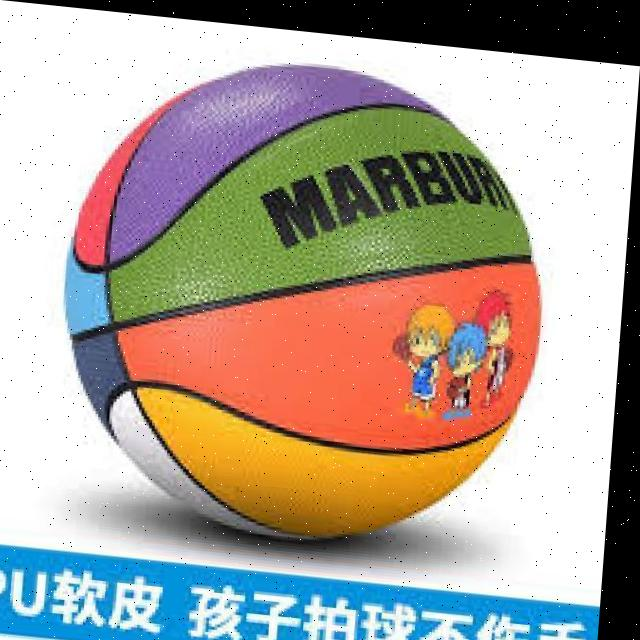Basketball: (42, 36, 560, 562)
